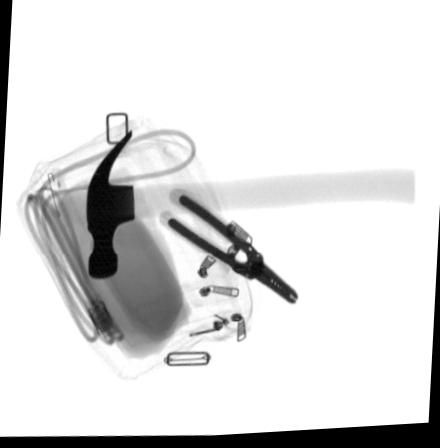Hammer: (83, 129, 414, 281)
Pliers: (158, 190, 299, 309)
